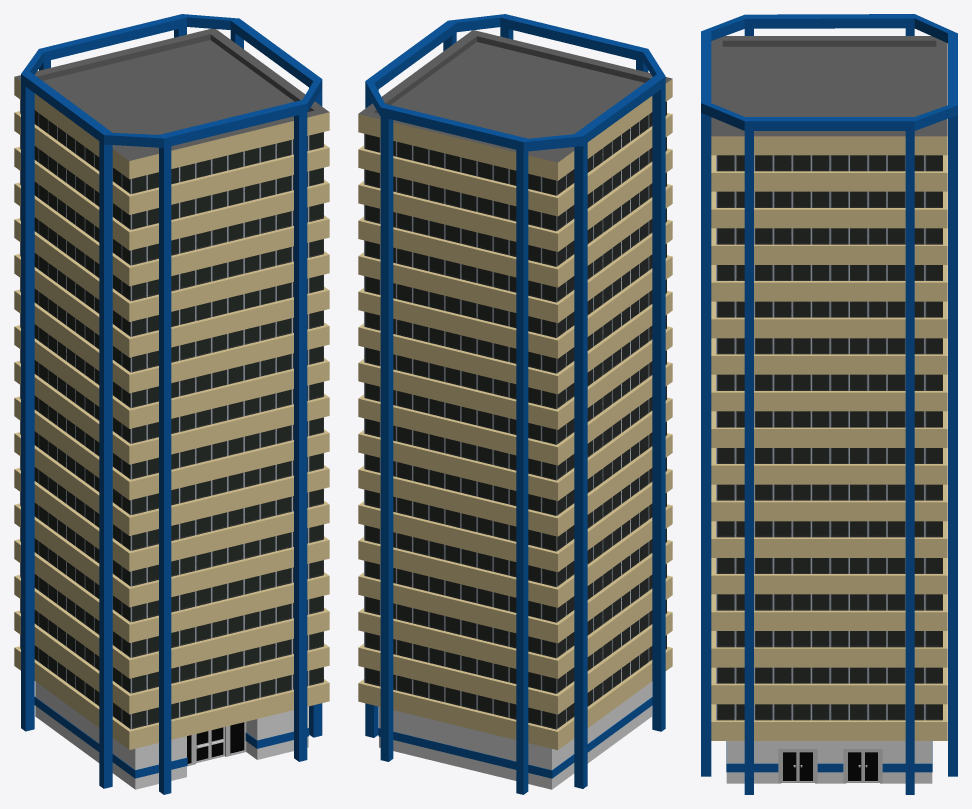
3 renders of one model, left to right at view 1: azimuth 30°, elevation 25°; view 2: azimuth 150°, elevation 25°; view 3: azimuth 270°, elevation 25°, orthographic. The views are drawn at different scales.
Parts seen in each view (by area): view 1: EC-012; view 2: EC-012; view 3: EC-012.
Part boxes in pixels (x1,y1,x2,y2): EC-012: [14, 14, 329, 794]; EC-012: [358, 14, 672, 794]; EC-012: [701, 14, 957, 794].
Size of what is drawn, in the model's own units: 19.23 by 55.21 by 19.07.
